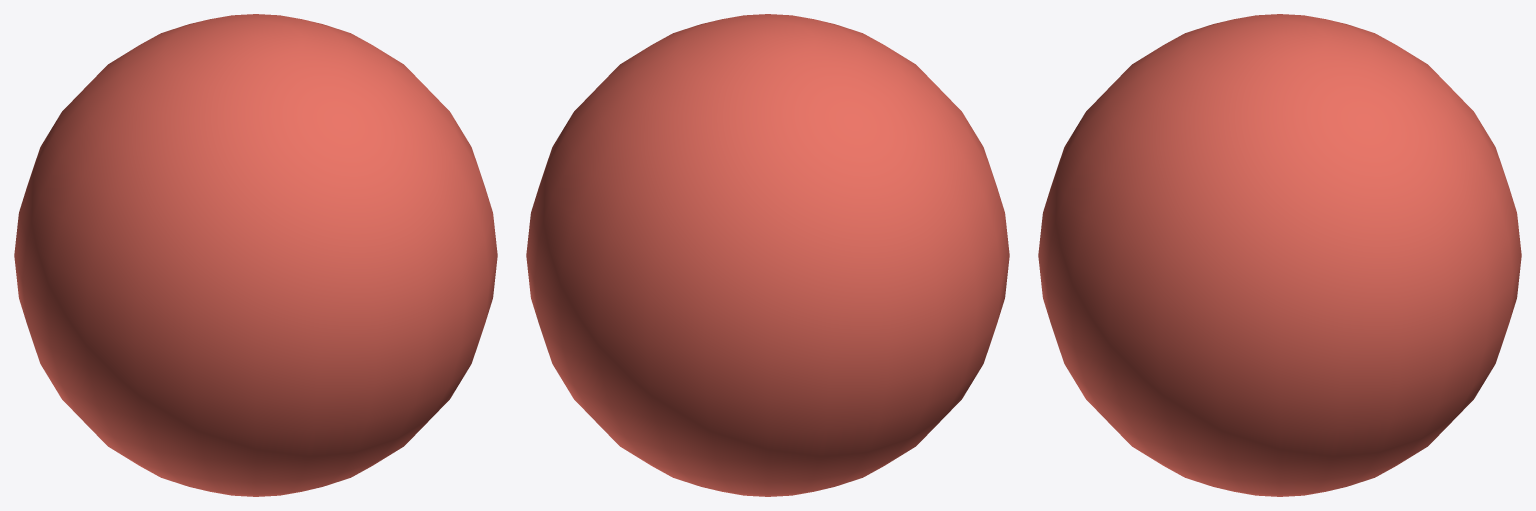
File: earth_layers.glb
3 renders of one model, left to right at view 1: azimuth 30°, elevation 25°; view 2: azimuth 150°, elevation 25°; view 3: azimuth 270°, elevation 25°, orthographic.
Parts seen in each view (by area): view 1: mantle; view 2: mantle; view 3: mantle.
Boxes of the visible parts, x1=… form: mantle: x1=14, y1=14, x2=497, y2=496; mantle: x1=526, y1=14, x2=1009, y2=496; mantle: x1=1038, y1=14, x2=1521, y2=496.
Bounding box in the file's own units: 1.8 × 1.8 × 1.8.
